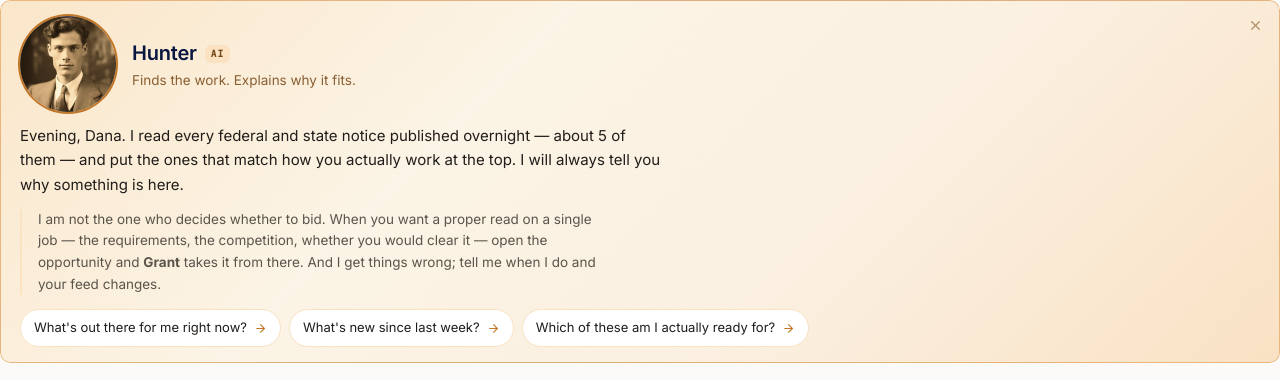
Test: MeetHunter dismissal › writes the met-Hunter flag and collapses to the strip
Expected: the heading "Hunter AI" is shown, top-left (132, 41), bottom-right (230, 65)
Click the button named "Close" at coordinates (1255, 25), box top-left (1242, 12), bottom-right (1268, 38)
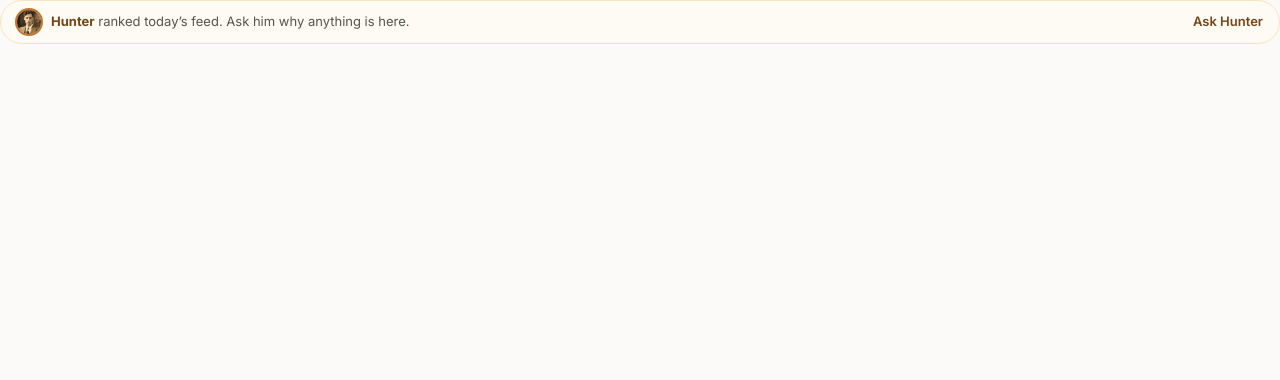
Now the button "Ask Hunter" is shown, box top-left (1193, 12), bottom-right (1263, 32)
